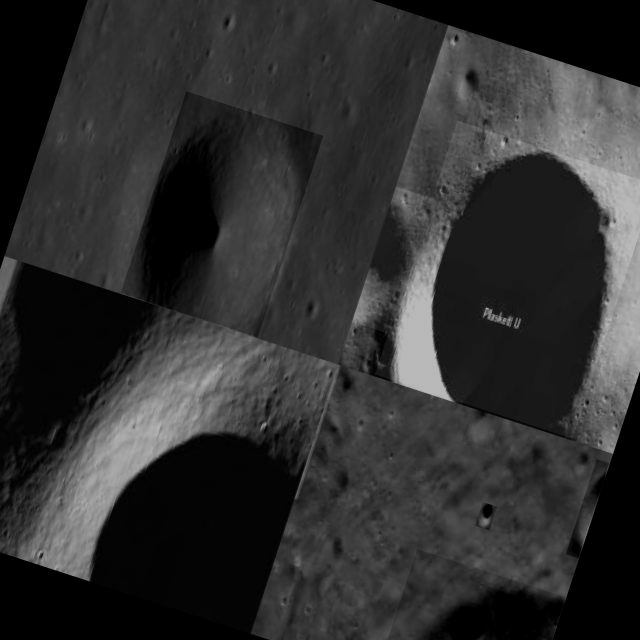crater: (375, 121, 640, 439), (68, 384, 311, 632), (120, 91, 324, 338), (377, 549, 565, 640), (352, 187, 432, 334), (566, 460, 608, 559), (462, 408, 504, 451), (475, 502, 497, 530)
